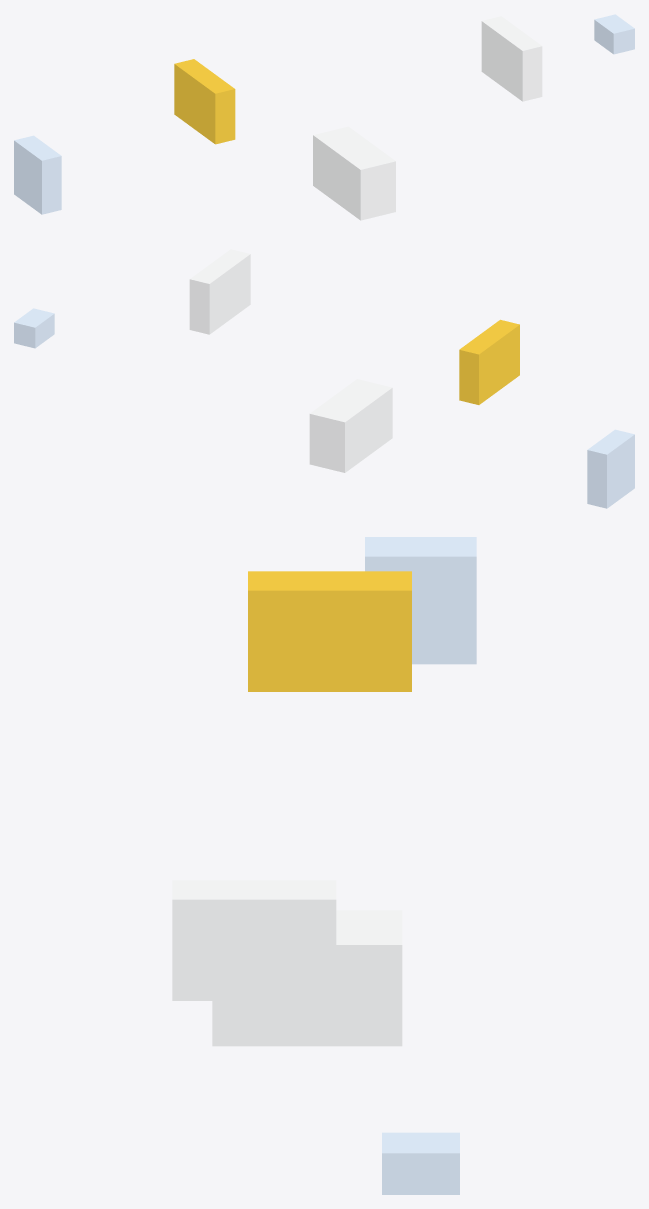
3 views of the same model, one above another, from view 1: azimuth 30°, elevation 25°; view 2: azimuth 150°, elevation 25°; view 3: azimuth 270°, elevation 25° (orthographic). The views are drawn at different scales.
Visible parts, largest first — view 1: FFN ×3, Self-attention ×3, Residual + norm ×3, Patch + class token embed., Classifier / output; view 2: FFN ×3, Residual + norm ×3, Self-attention ×3, Patch + class token embed., Classifier / output; view 3: Residual + norm ×3, Self-attention ×3, FFN ×3, Patch + class token embed., Classifier / output.
Boxes of the visible parts, <box> form: FFN ×3: <box>313,126,395,220</box>; Self-attention ×3: <box>174,59,235,144</box>; Residual + norm ×3: <box>481,16,542,101</box>; Patch + class token embed.: <box>14,135,61,214</box>; Classifier / output: <box>594,14,634,54</box>; FFN ×3: <box>309,379,392,472</box>; Residual + norm ×3: <box>189,249,250,334</box>; Self-attention ×3: <box>459,319,519,404</box>; Patch + class token embed.: <box>587,429,634,508</box>; Classifier / output: <box>14,308,54,348</box>; Residual + norm ×3: <box>172,880,336,1000</box>; Self-attention ×3: <box>248,571,411,691</box>; FFN ×3: <box>212,910,402,1046</box>; Patch + class token embed.: <box>365,537,476,664</box>; Classifier / output: <box>382,1132,459,1194</box>.
Size of the model in its own units: 33.72 by 8.28 by 7.44.
